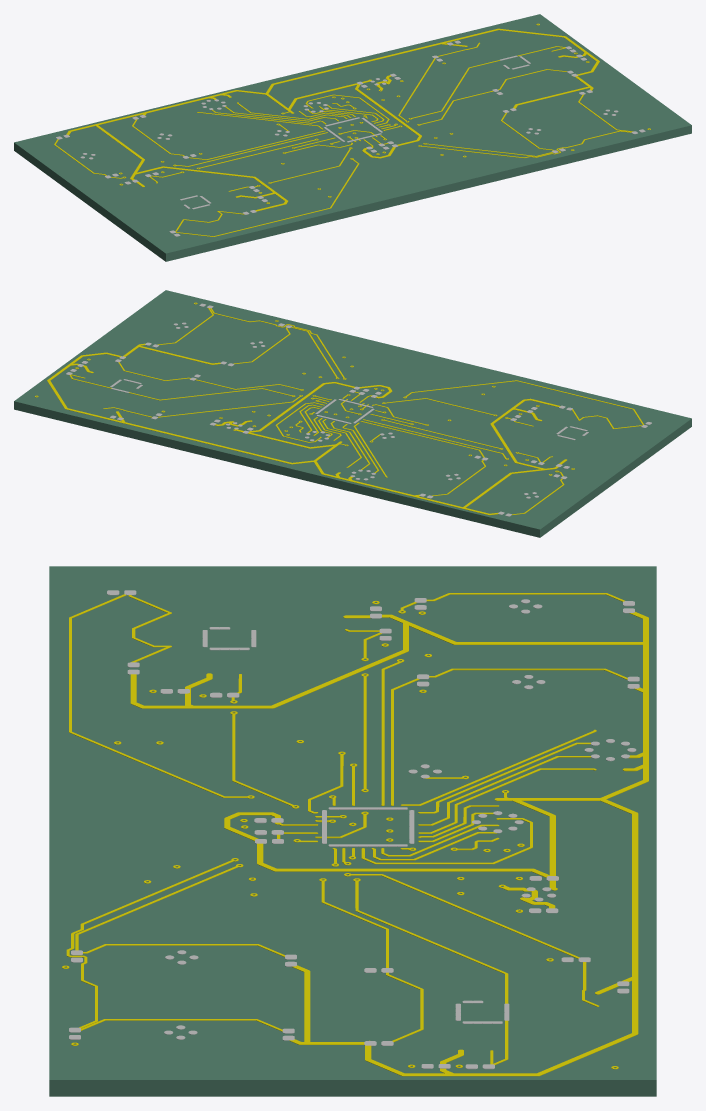
Rendered from pcb_3d_model.glb.
The picture shows the model from 3 angles, top to bottom: view 1: azimuth 30°, elevation 25°; view 2: azimuth 150°, elevation 25°; view 3: azimuth 270°, elevation 25°; orthographic projection. The views are drawn at different scales.
Parts seen in each view (by area): view 1: =>[0:1:1:5], =>[0:1:1:2], =>[0:1:1:3]; view 2: =>[0:1:1:5], =>[0:1:1:2], =>[0:1:1:3]; view 3: =>[0:1:1:5], =>[0:1:1:2], =>[0:1:1:3].
Part boxes in pixels (bbox=[...]): =>[0:1:1:5]: bbox=[14, 14, 691, 261]; =>[0:1:1:2]: bbox=[54, 23, 650, 236]; =>[0:1:1:3]: bbox=[56, 40, 645, 236]; =>[0:1:1:5]: bbox=[14, 290, 691, 537]; =>[0:1:1:2]: bbox=[35, 302, 643, 515]; =>[0:1:1:3]: bbox=[66, 303, 651, 516]; =>[0:1:1:5]: bbox=[49, 566, 656, 1096]; =>[0:1:1:2]: bbox=[62, 593, 648, 1076]; =>[0:1:1:3]: bbox=[69, 590, 639, 1069].
Bounding box in the file's own units: 0.1 × 0.00159 × 0.05.
